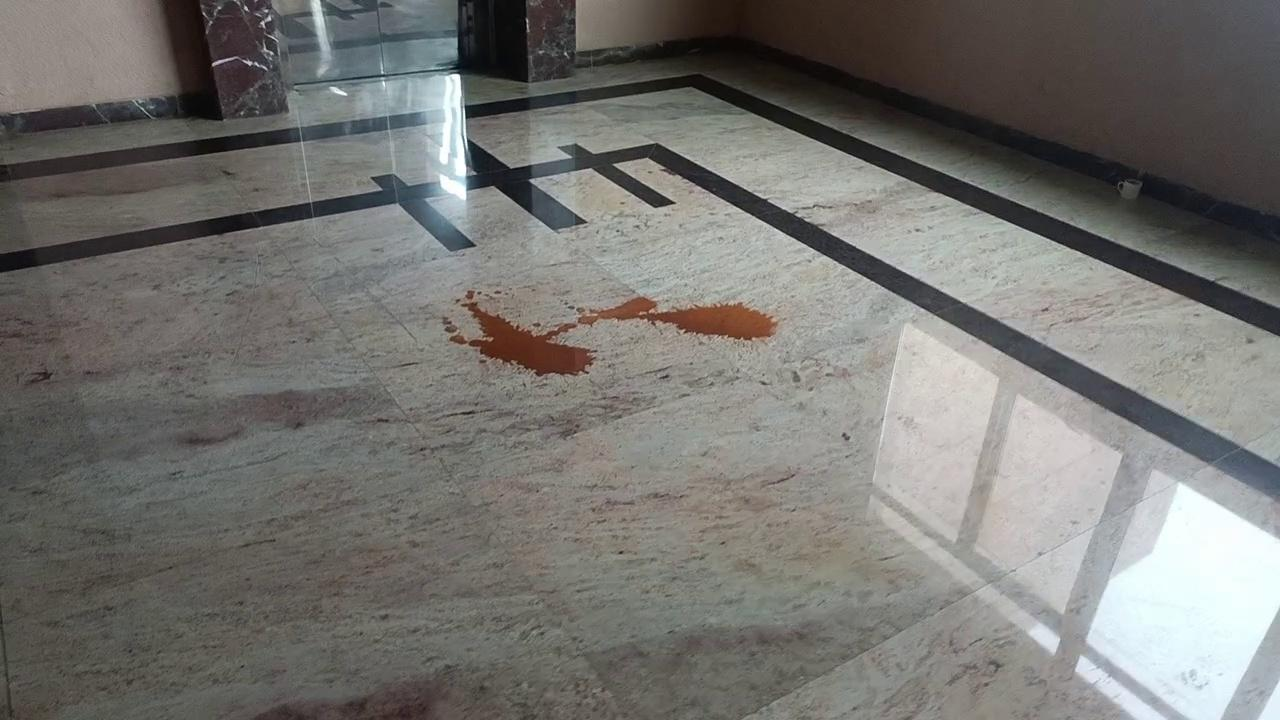dirty_floor: (448, 283, 785, 384)
